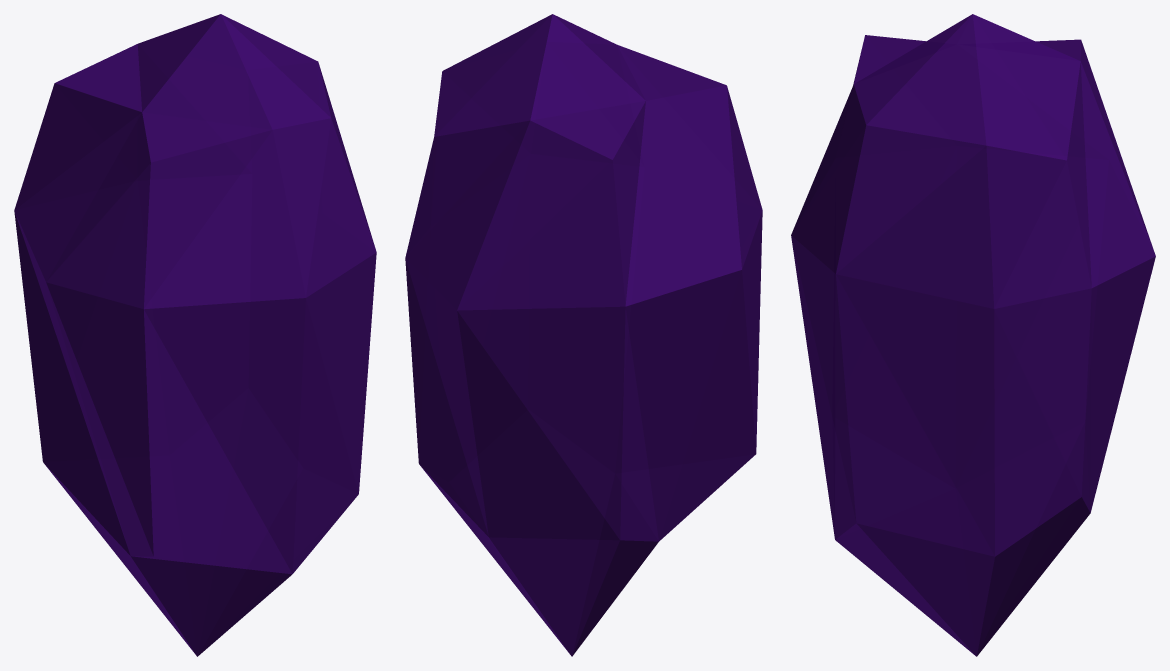
The model's file is Gem.FBX.
3 renders of one model, left to right at view 1: azimuth 30°, elevation 25°; view 2: azimuth 150°, elevation 25°; view 3: azimuth 270°, elevation 25°, orthographic. The views are drawn at different scales.
Parts seen in each view (by area): view 1: Gem; view 2: Gem; view 3: Gem.
Part boxes in pixels (bbox=[...]): Gem: bbox=[14, 14, 376, 656]; Gem: bbox=[405, 14, 762, 656]; Gem: bbox=[791, 14, 1155, 656].
Bounding box in the file's own units: 20.16 × 41.81 × 21.15.
